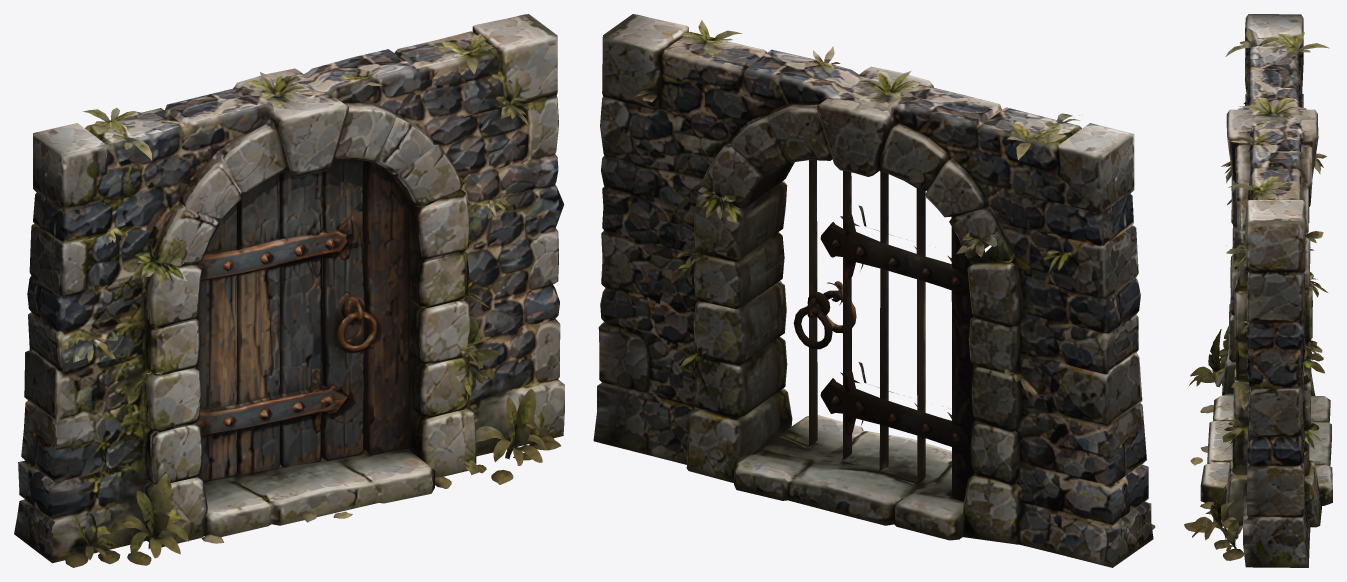
Rendered from act1_kit_v1_barrow_door.glb.
3 views of the same model, side by side, from view 1: azimuth 30°, elevation 25°; view 2: azimuth 150°, elevation 25°; view 3: azimuth 270°, elevation 25° (orthographic). The views are drawn at different scales.
Parts seen in each view (by area): view 1: act1_kit_v1_barrow_door; view 2: act1_kit_v1_barrow_door; view 3: act1_kit_v1_barrow_door.
Boxes of the visible parts, x1,y1,x2,y2 form: act1_kit_v1_barrow_door: (14, 14, 564, 567); act1_kit_v1_barrow_door: (593, 14, 1155, 567); act1_kit_v1_barrow_door: (1184, 14, 1332, 567).
Size of the model in its own units: 1 by 0.7565 by 0.2896.
Materials: 1 (1 with a texture image).
